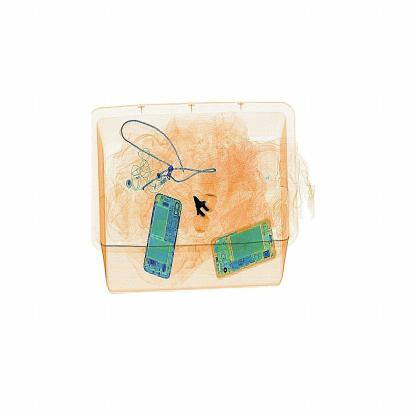gun: (182, 184, 219, 235)
